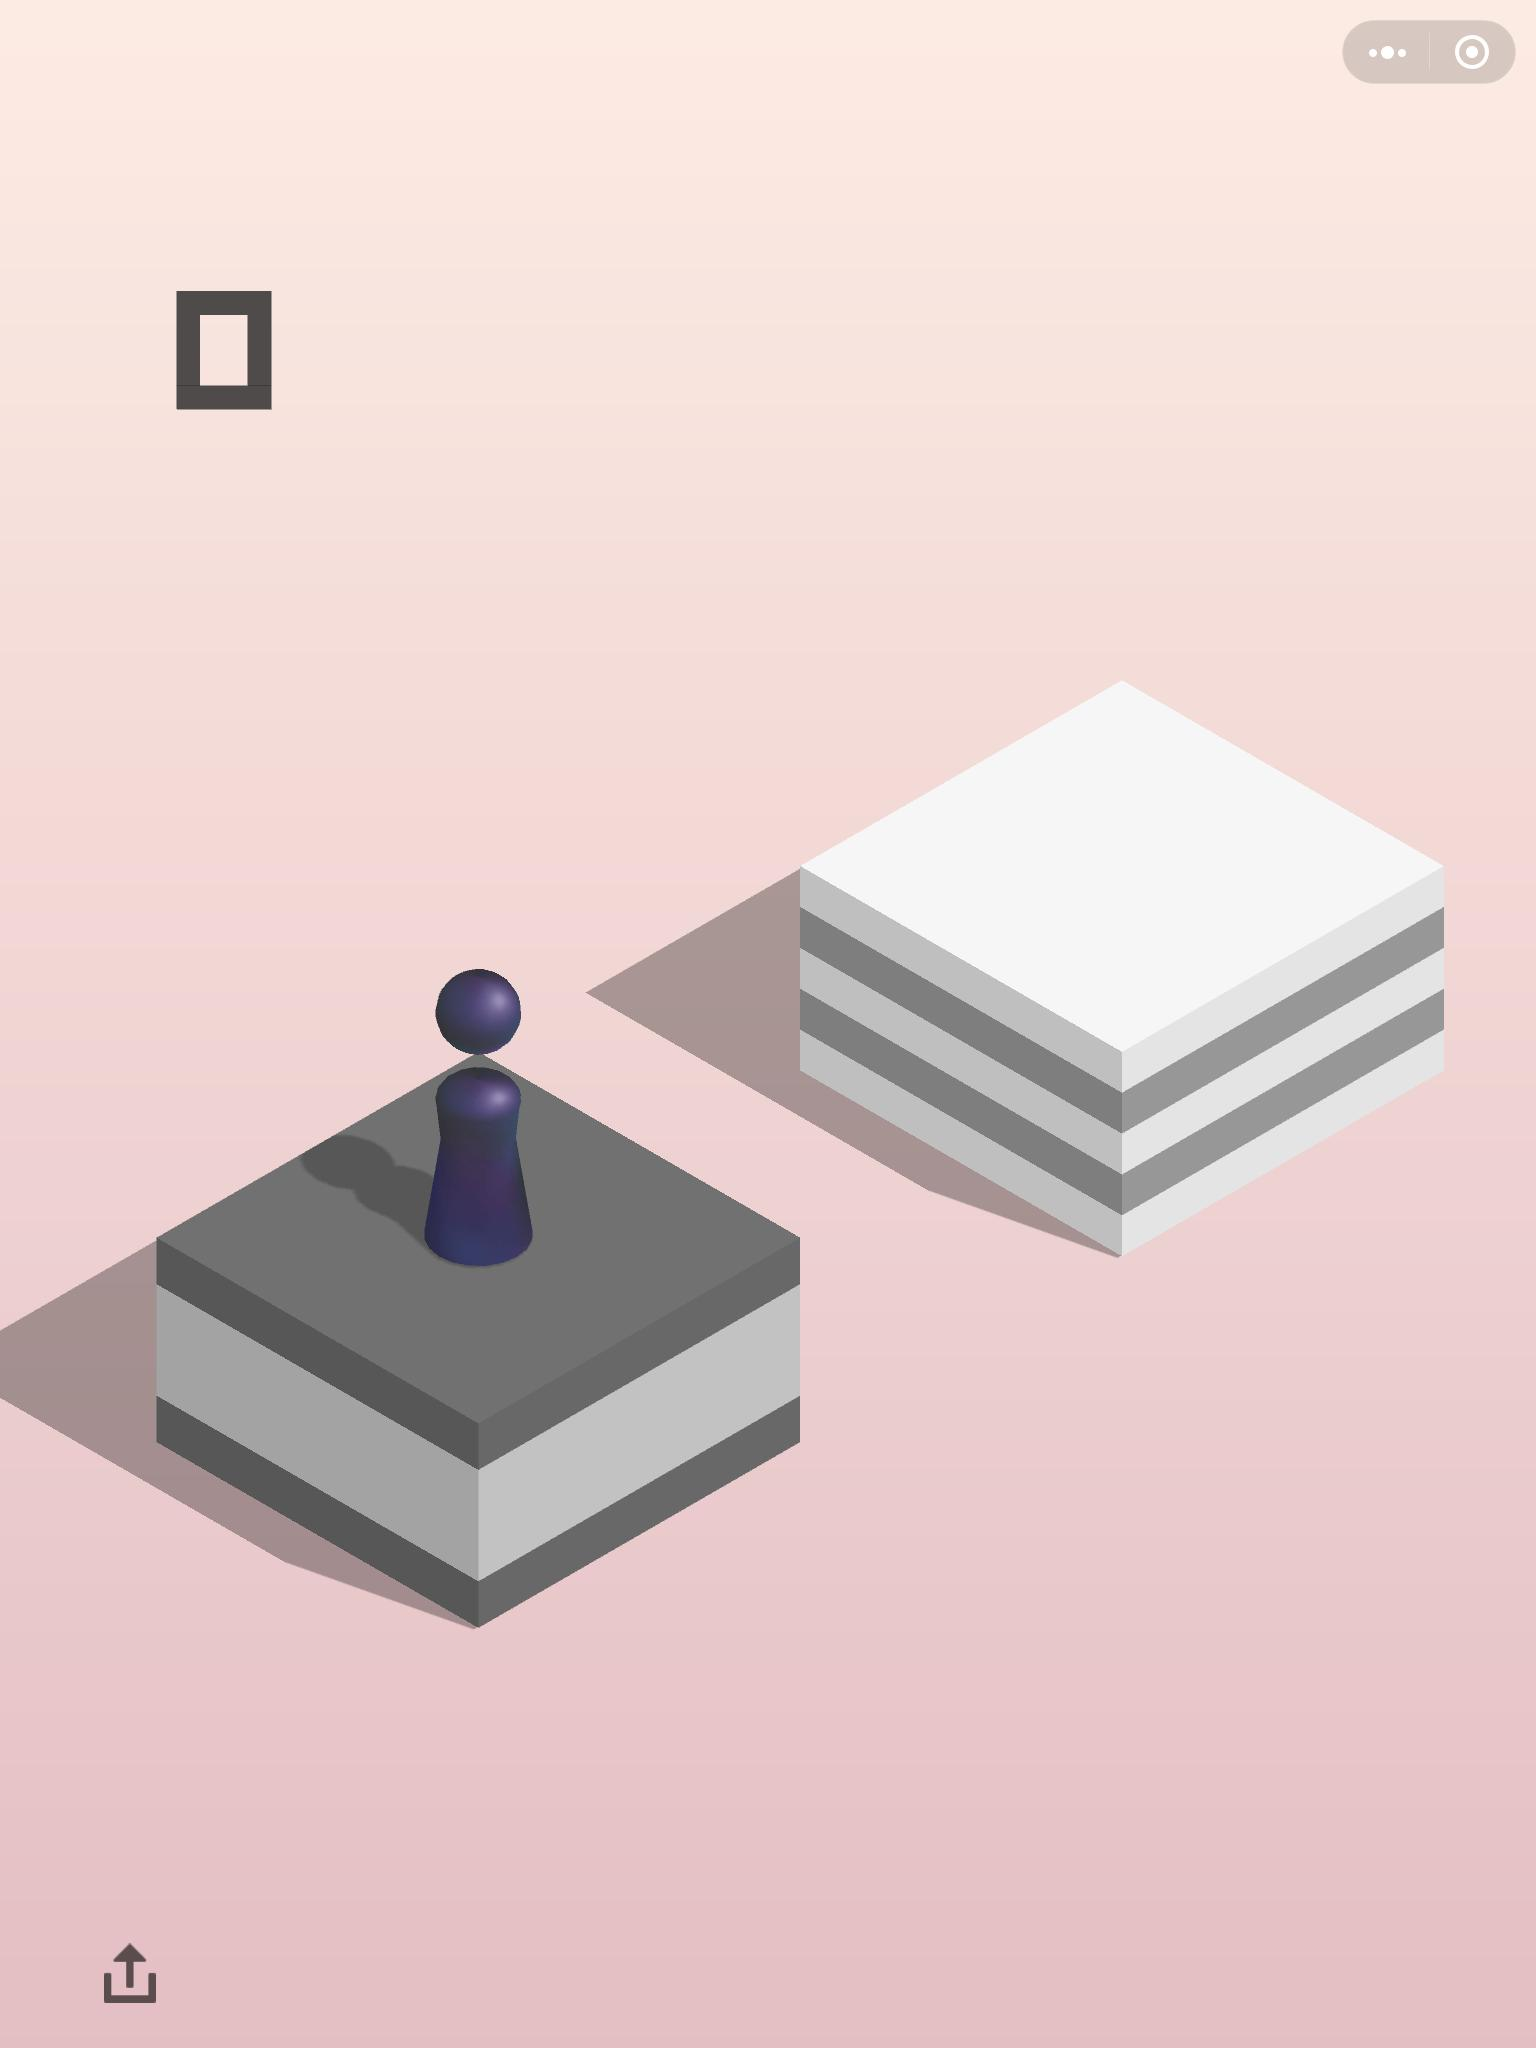f: (781, 668, 1450, 1261), (148, 1059, 800, 1637)
r: (415, 955, 536, 1272)
